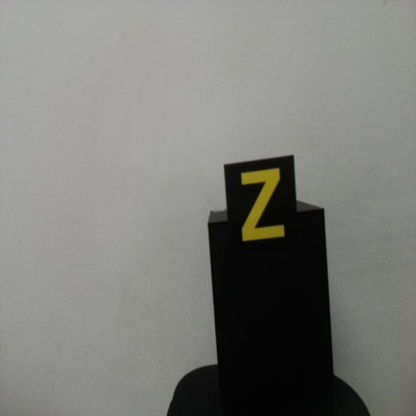id_15: (224, 163, 298, 255)
